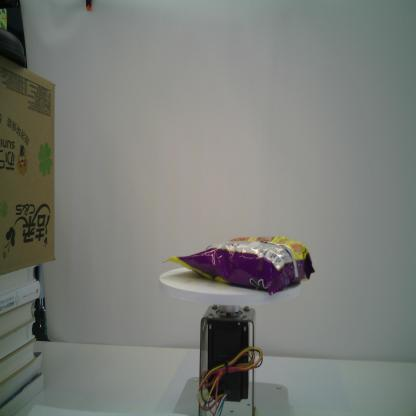Instant Noodles: (161, 234, 316, 297)
